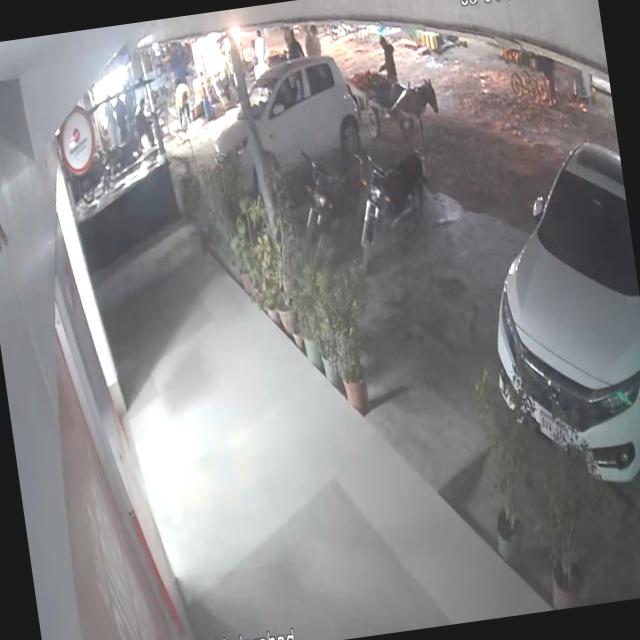Car: (464, 118, 640, 517), (204, 50, 388, 204)
Motorcycle: (348, 131, 444, 280), (283, 132, 374, 261)
